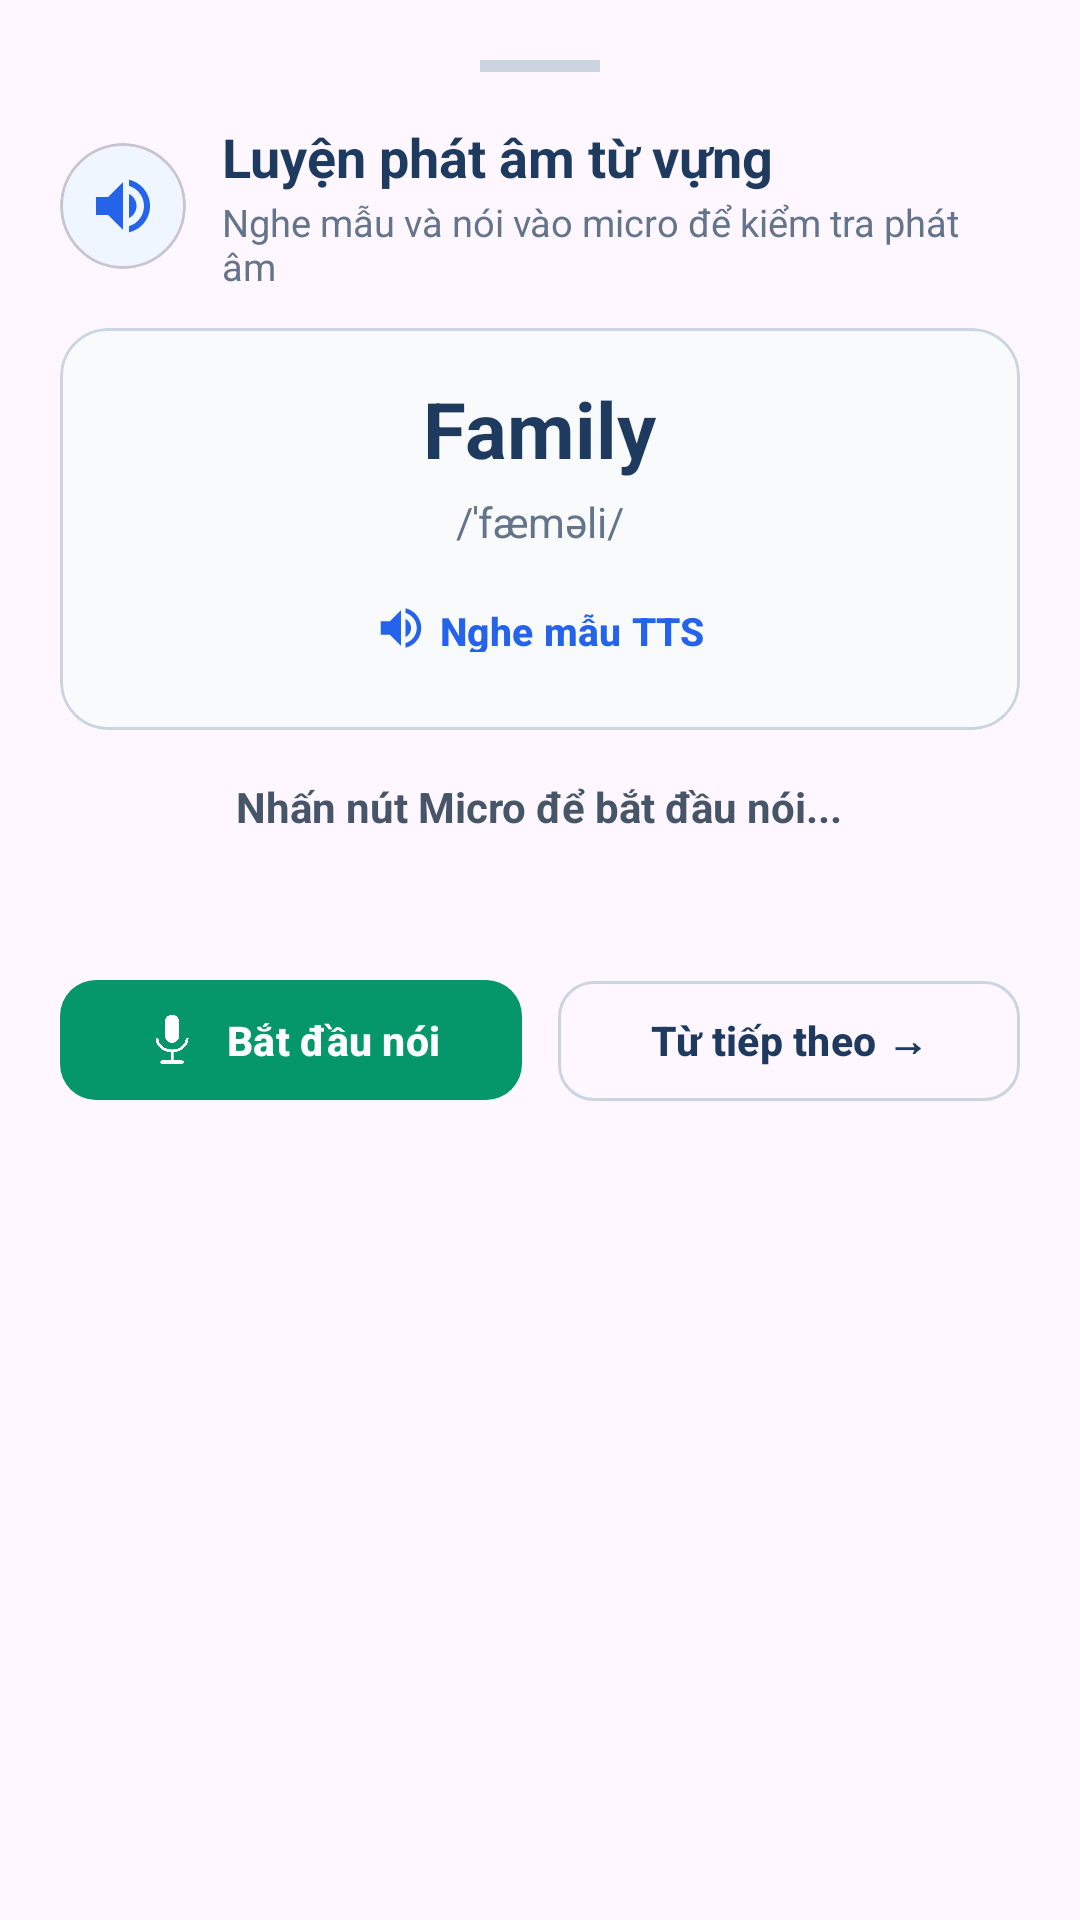

Icons on this 1080x1920 Android screen, each with its box as box(x1, y1, x2, y2):
speaker: box(96, 179, 150, 233)
